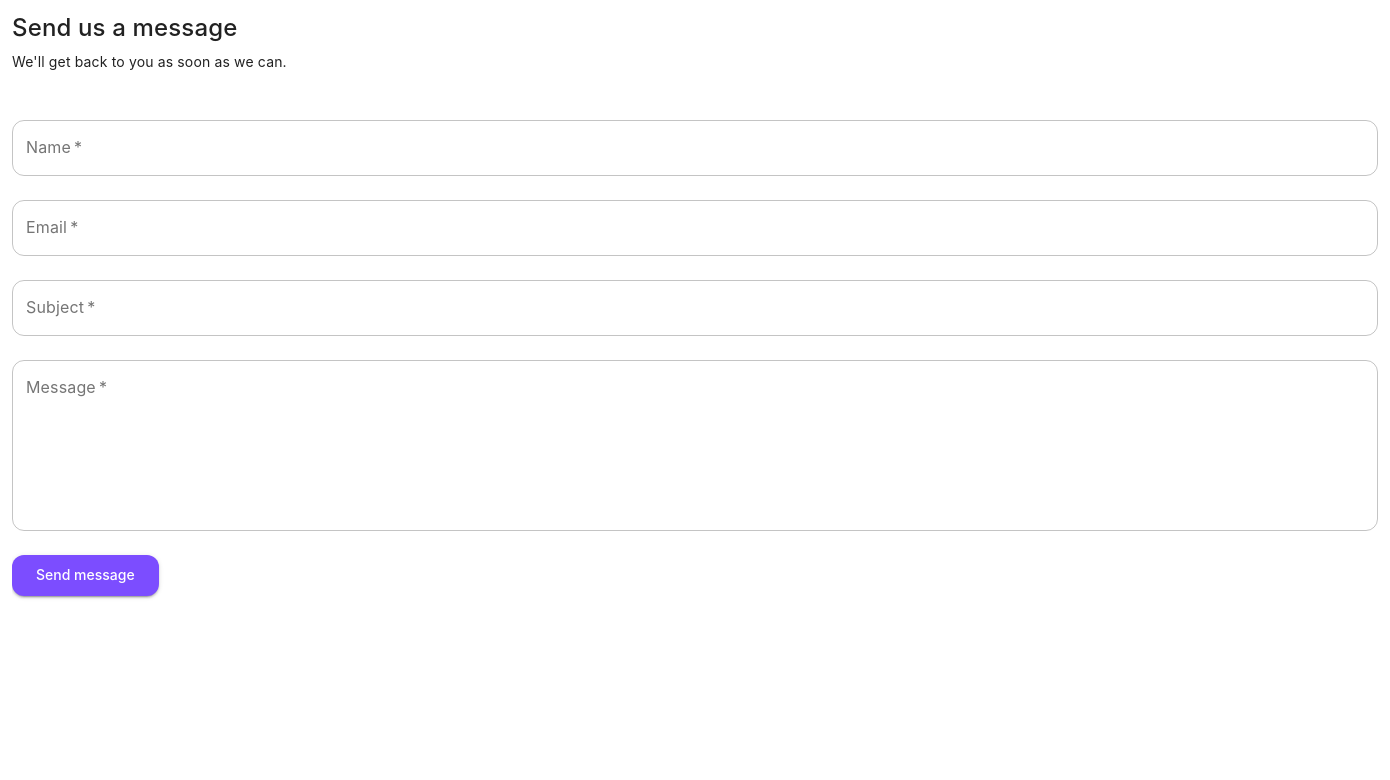
Test: ContactForm › submits trimmed fields and clears the form
Type " Person " into the field labelled "Name *".
click(695, 148); type(" Person ")  # box [12,120,1378,176]
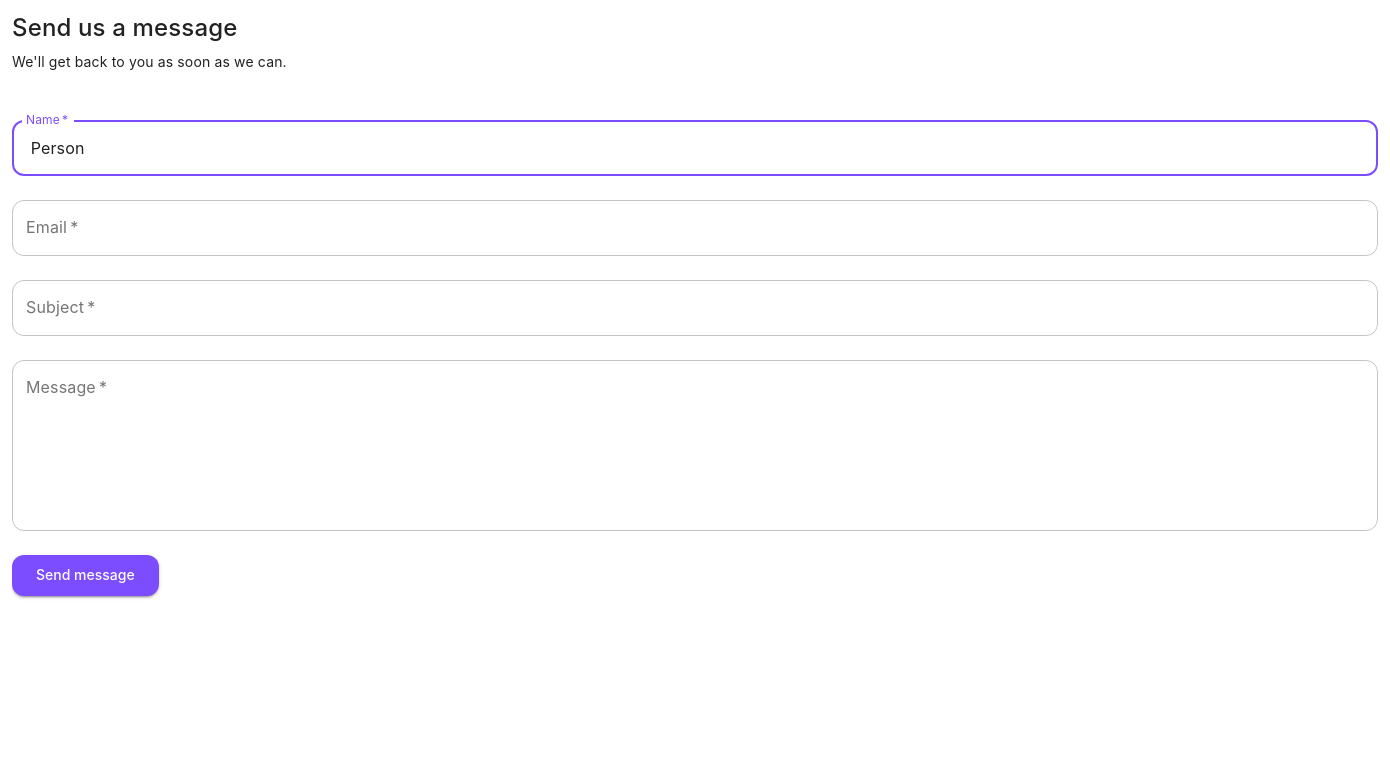
Type "person@example.com" into the field labelled "Email *".
click(695, 228); type("person@example.com")  # box [12,200,1378,256]
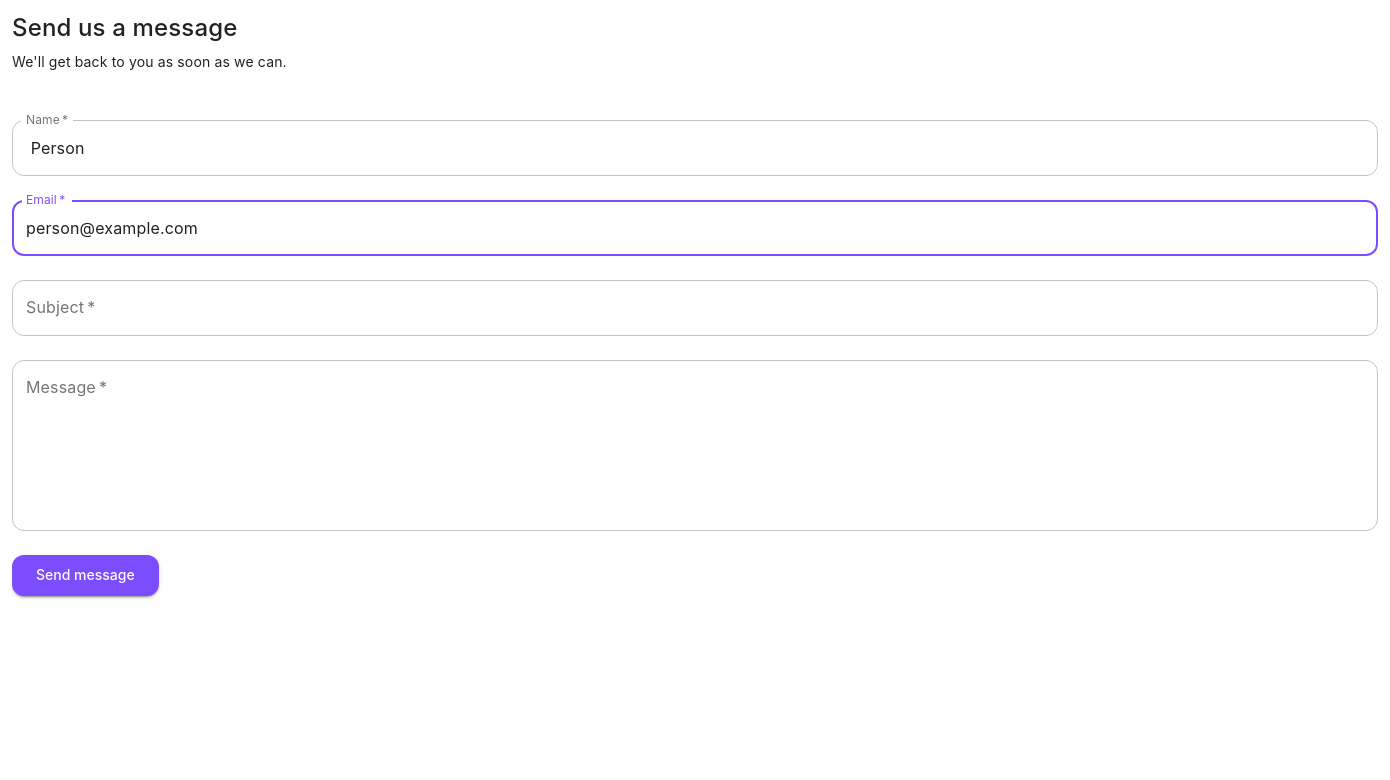
Type " Question " into the field labelled "Subject *".
click(695, 308); type(" Question ")  # box [12,280,1378,336]
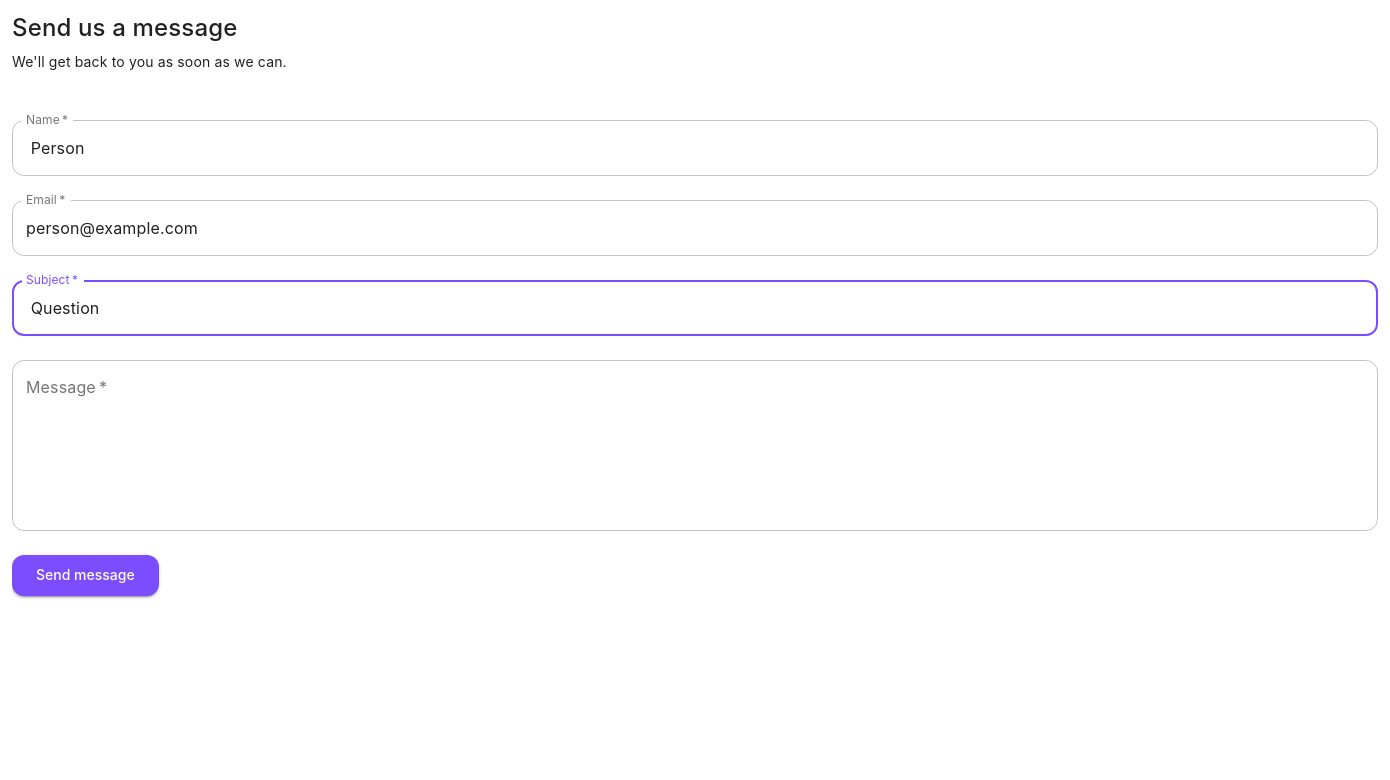
Type " Hello " into the text box labelled "Message *".
click(695, 446); type(" Hello ")  # box [26,377,1364,515]
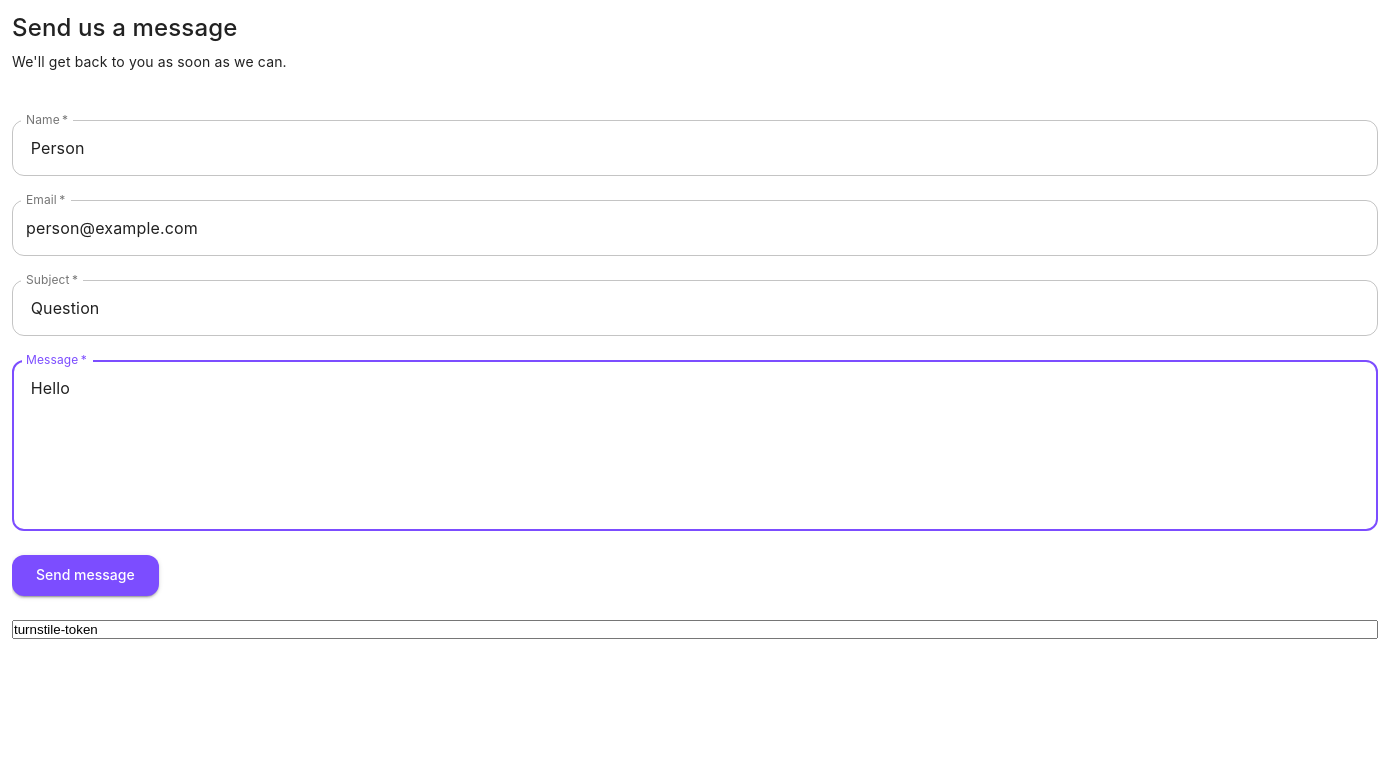
Click the button "Send message".
click(85, 576)  # box [12,555,159,596]
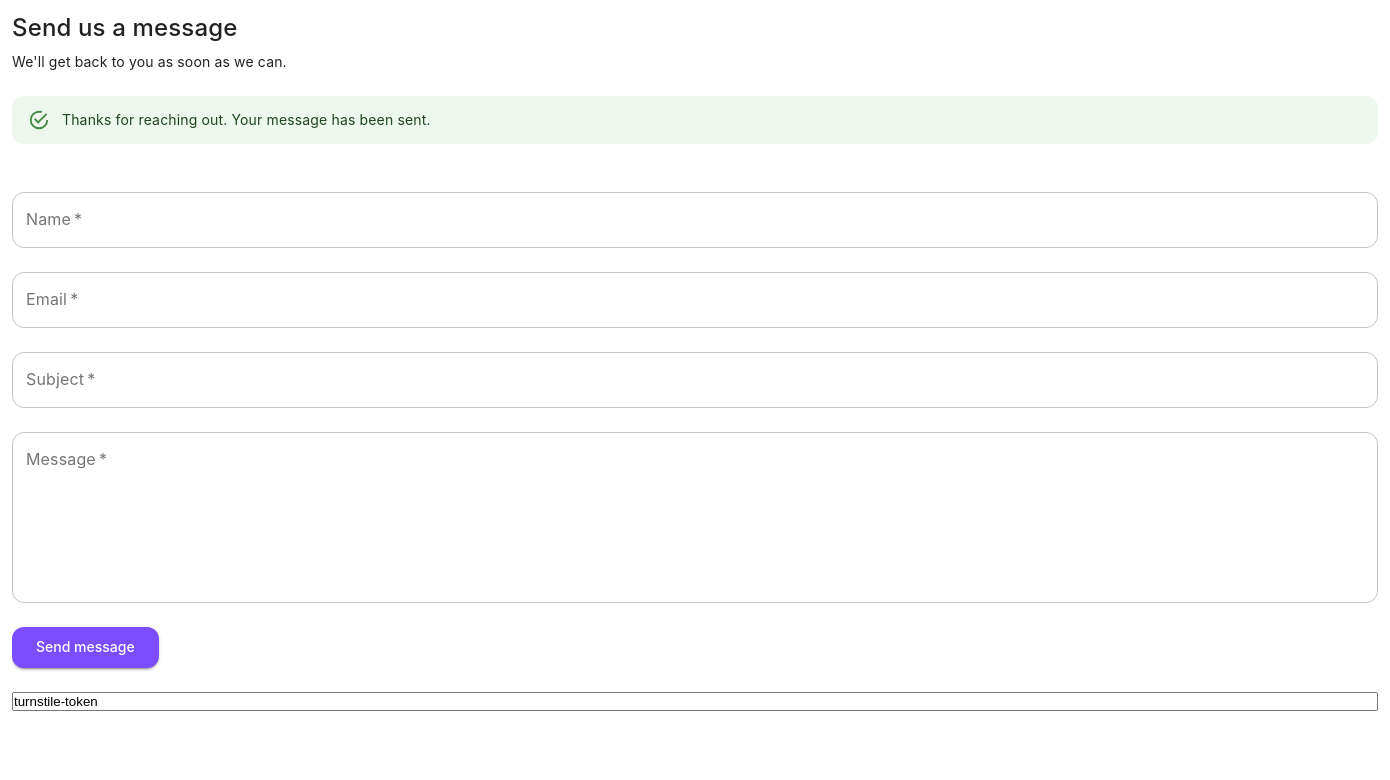
Result: the text "Thanks for reaching out. Your message has been sent." is shown at [62,111,431,128]
Result: the field labelled "Name *" is empty at [12,192,1378,248]
